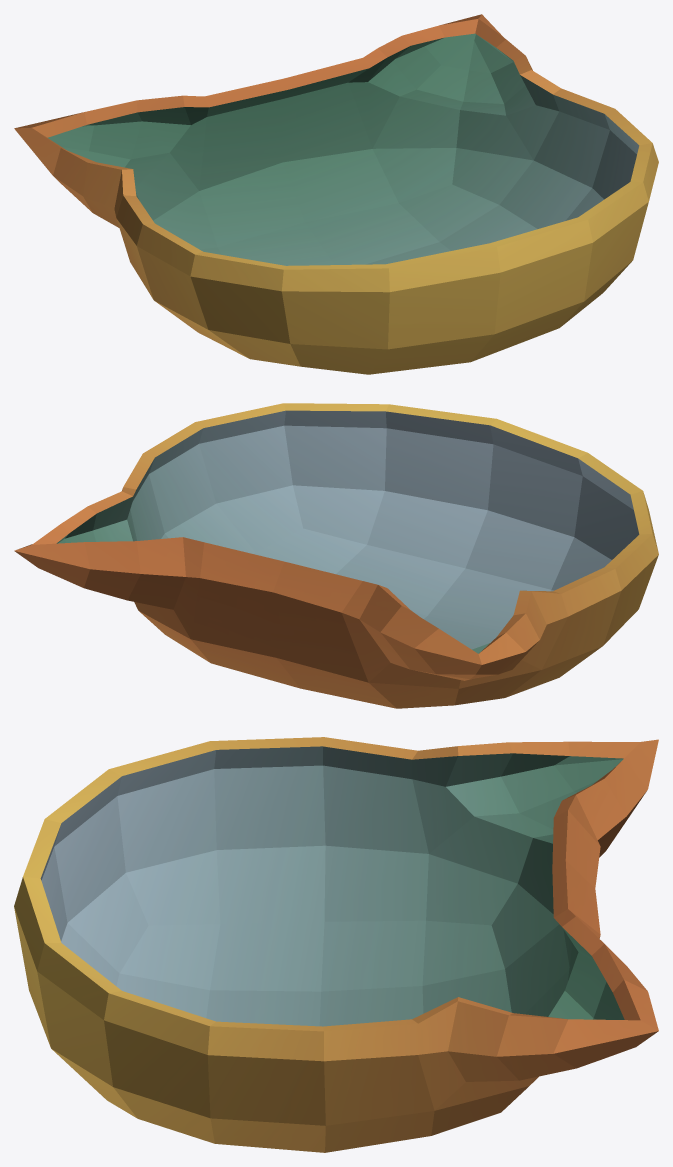
Rendered from sp_catbowl_kitchen_b 1.fbx.
3 views of the same model, one above another, from view 1: azimuth 30°, elevation 25°; view 2: azimuth 150°, elevation 25°; view 3: azimuth 270°, elevation 25° (orthographic). The views are drawn at different scales.
Visible parts, largest first — view 1: sp_catbowl_kitchen_b; view 2: sp_catbowl_kitchen_b; view 3: sp_catbowl_kitchen_b.
Part boxes in pixels (x1,y1,x2,y2): sp_catbowl_kitchen_b: (14,14,658,374); sp_catbowl_kitchen_b: (14,403,658,708); sp_catbowl_kitchen_b: (14,737,658,1152).
Size of the model in its own units: 16.87 by 5.91 by 15.22.
